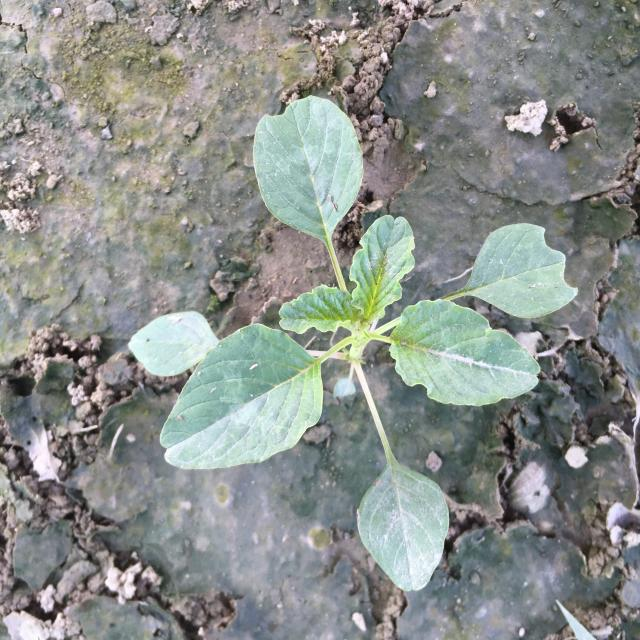PalmerAmaranth: (127, 96, 578, 592)
